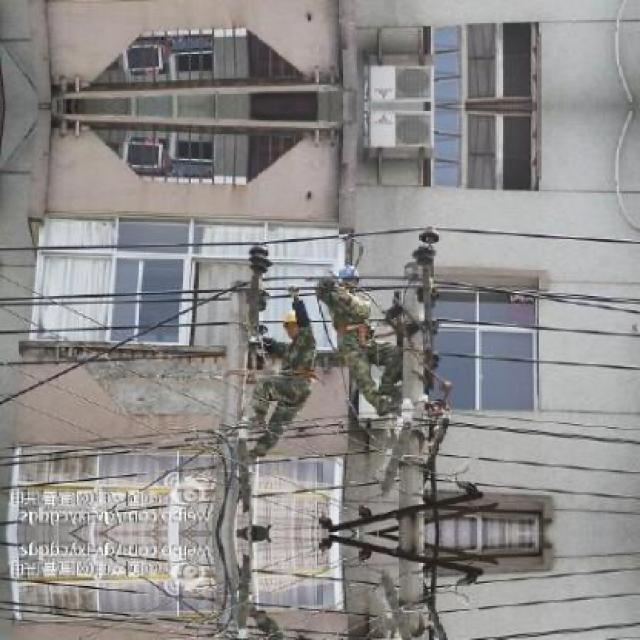helmet: (332, 262, 362, 298), (278, 304, 308, 338)
